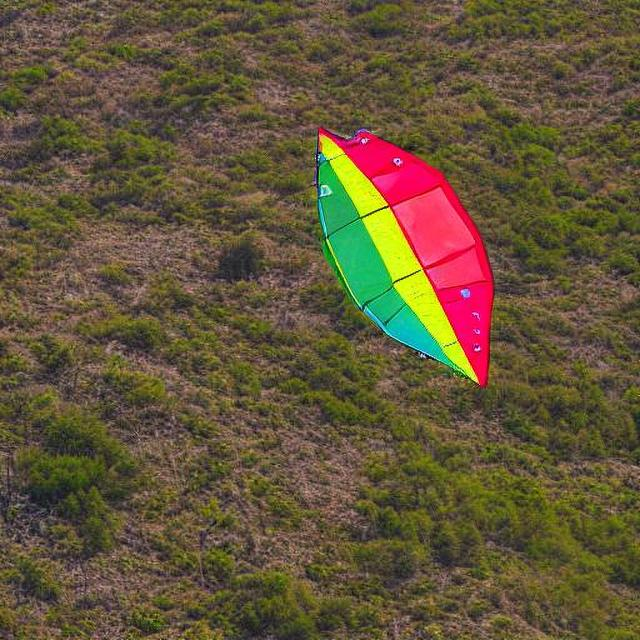floating object: (314, 121, 497, 379)
